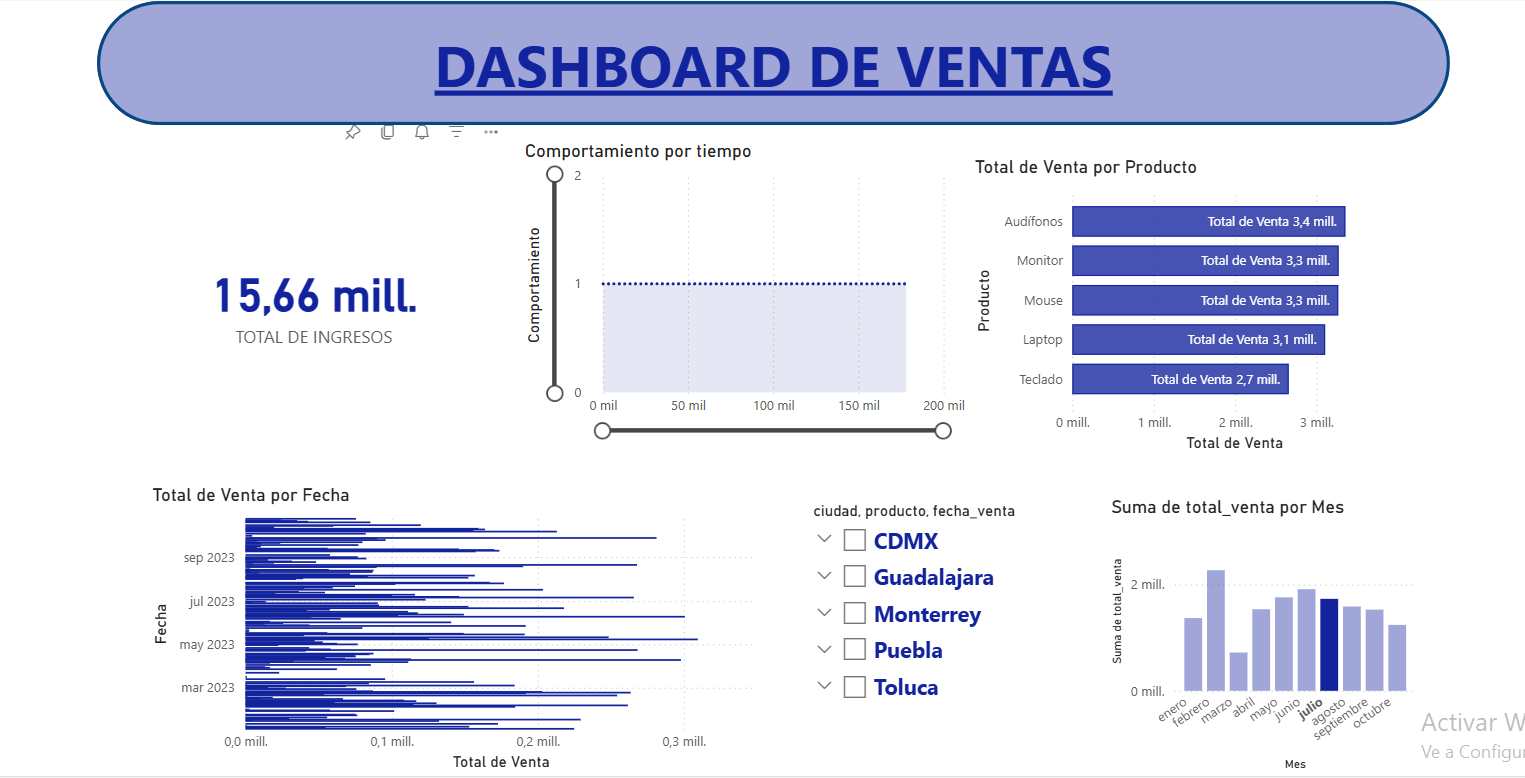

This screenshot's page, from the dashboard's own definition file:
{"tool":"powerbi","page":{"name":"VENTAS POR PRODUJCTO Y CIUDAD","canvas":[1280,720],"ordinal":0},"visuals":[{"type":"card","fields":{"Values":["Sum(ventas_dataset.total_venta)"]},"box":[22,135.8,359.5,288.2],"z":0},{"type":"barChart","fields":{"Category":["ventas_dataset.producto"],"Y":["Sum(ventas_dataset.total_venta)"]},"box":[811,144.1,418.5,279.9],"z":1},{"type":"barChart","fields":{"Y":["Sum(ventas_dataset.total_venta)"],"Category":["ventas_dataset.fecha_venta"]},"box":[46.7,448.7,592.8,271.7],"z":2},{"type":"lineChart","fields":{"Category":["ventas_dataset.total_venta"],"Y":["CountNonNull(ventas_dataset.fecha_venta)"]},"box":[392.5,129,418.5,301.9],"z":3},{"type":"slicer","fields":{"Values":["ventas_dataset.ciudad","ventas_dataset.producto","ventas_dataset.fecha_venta"]},"box":[653.2,459.7,284,260.7],"z":4},{"type":"actionButton","box":[0,0,1257,115.3],"z":5},{"type":"columnChart","fields":{"Category":["ventas_dataset.Mes"],"Y":["Sum(ventas_dataset.total_venta)"]},"box":[937,460,293,260],"z":6}]}

Visuals, with their boxes on the page's 1280x720 design canvas (x1, y1, x2, y2). These are canvas units, not pixel positions in the 1525x778 screenshot, which may show the page scaled, cropped or inside an application window:
card - Sum(ventas_dataset.total_venta): <box>22,136,382,424</box>
barChart - ventas_dataset.producto x Sum(ventas_dataset.total_venta): <box>811,144,1230,424</box>
barChart - Sum(ventas_dataset.total_venta) x ventas_dataset.fecha_venta: <box>47,449,640,720</box>
lineChart - ventas_dataset.total_venta x CountNonNull(ventas_dataset.fecha_venta): <box>392,129,811,431</box>
slicer - ventas_dataset.ciudad x ventas_dataset.producto: <box>653,460,937,720</box>
actionButton: <box>0,0,1257,115</box>
columnChart - ventas_dataset.Mes x Sum(ventas_dataset.total_venta): <box>937,460,1230,720</box>
